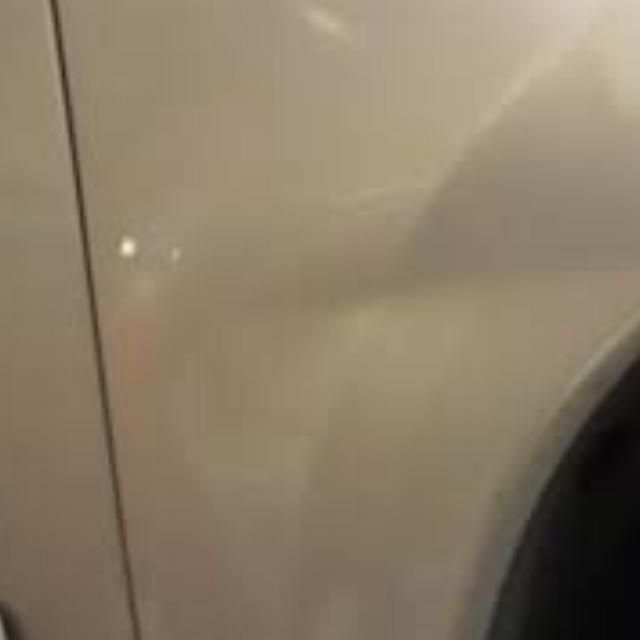dents: (141, 182, 464, 540)
